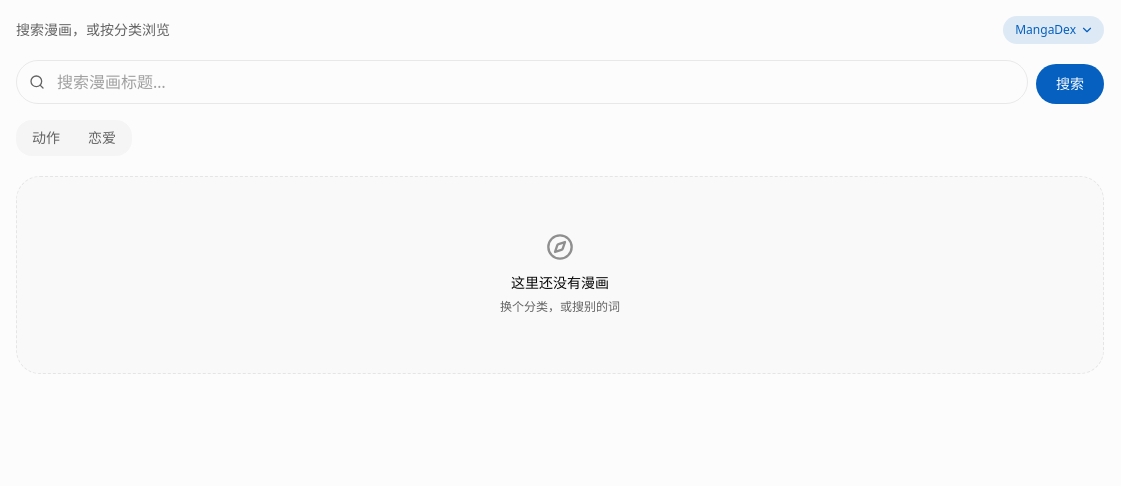
it: Sources 发现 List 页面（tab 切换） › 切换分类 tab 重新加载该分类列表
Click the tab "恋爱 恋爱": click(102, 138) [74,122,130,154]
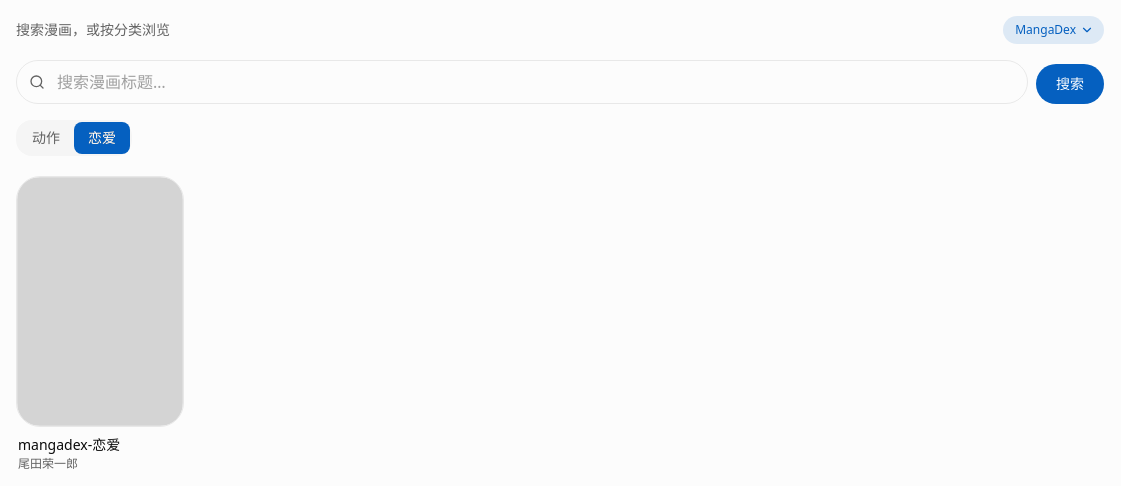
Result: the text "mangadex-恋爱" is shown at [18,435,120,454]
